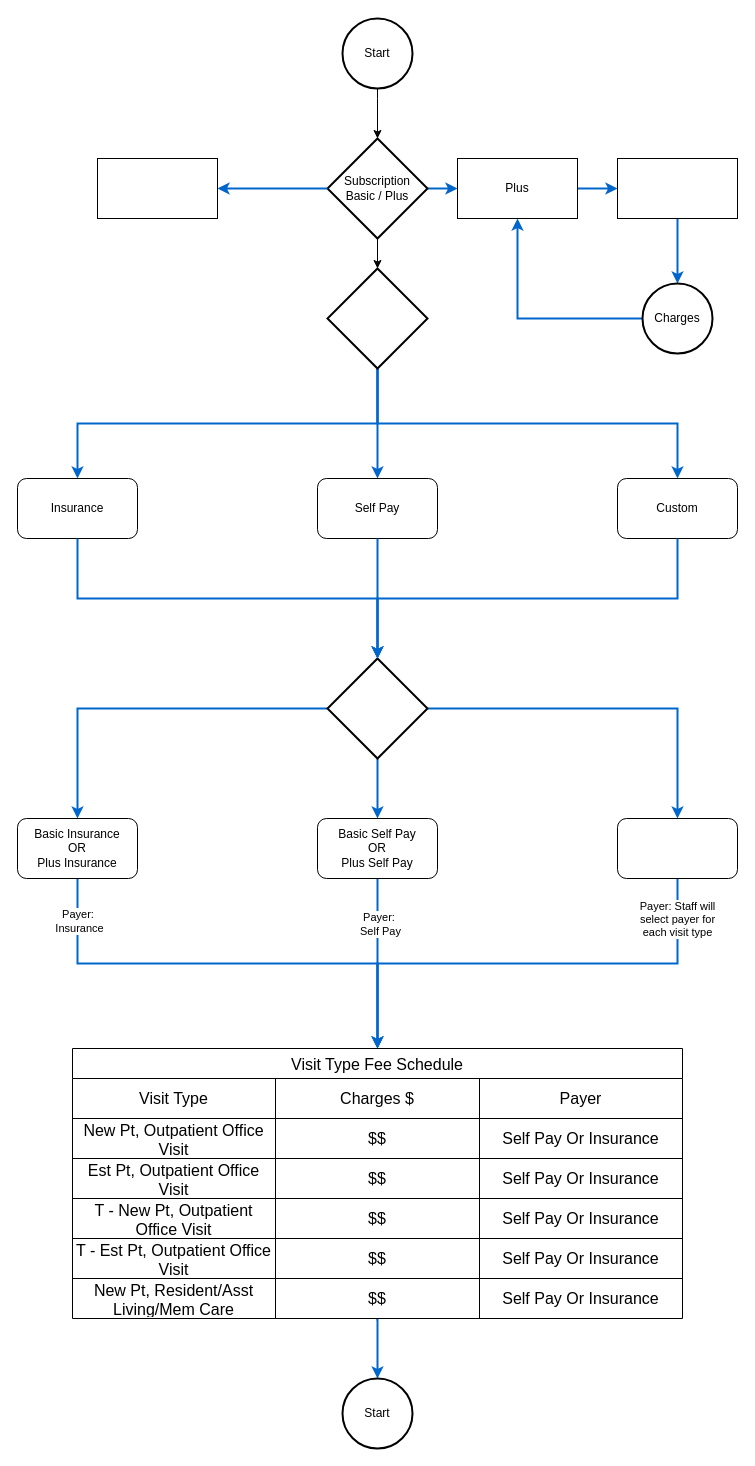
Some shapes in this 755 by 1466 pixel diagram are drawn without their labels. The centre of each missing label's shape, as x and y in pixels:
Basic: the point at 157,188
Basic Custom OR Plus Custom: the point at 677,848
PP Status: the point at 377,708
Recurrence Monthly / Annually: the point at 677,188
Service Charges: the point at 377,318
